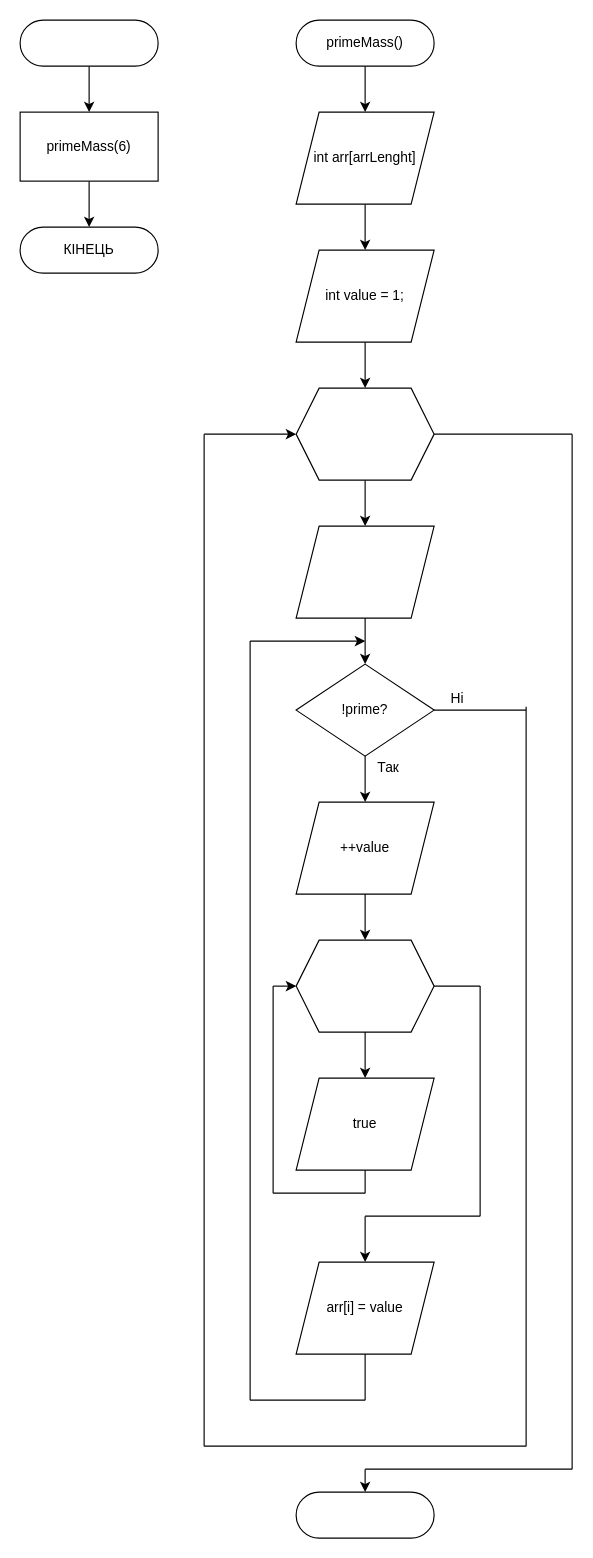
The diagram is 593 pixels wide and 1558 high, and some of its shapes have lost their labels. The shapes that lost their labels are listed below. From the top down, each one's centre as x and y in pixels, then its label:
At (88,42): "ПОЧАТОК".
At (364,433): "i := 0...arrLenght".
At (364,571): "bool prime=true".
At (364,985): "i := 0...i && arr[j] <= value / 2 && (prime = value%arr[j] != 0)".
At (364,1514): "KIНЕЦЬ".
